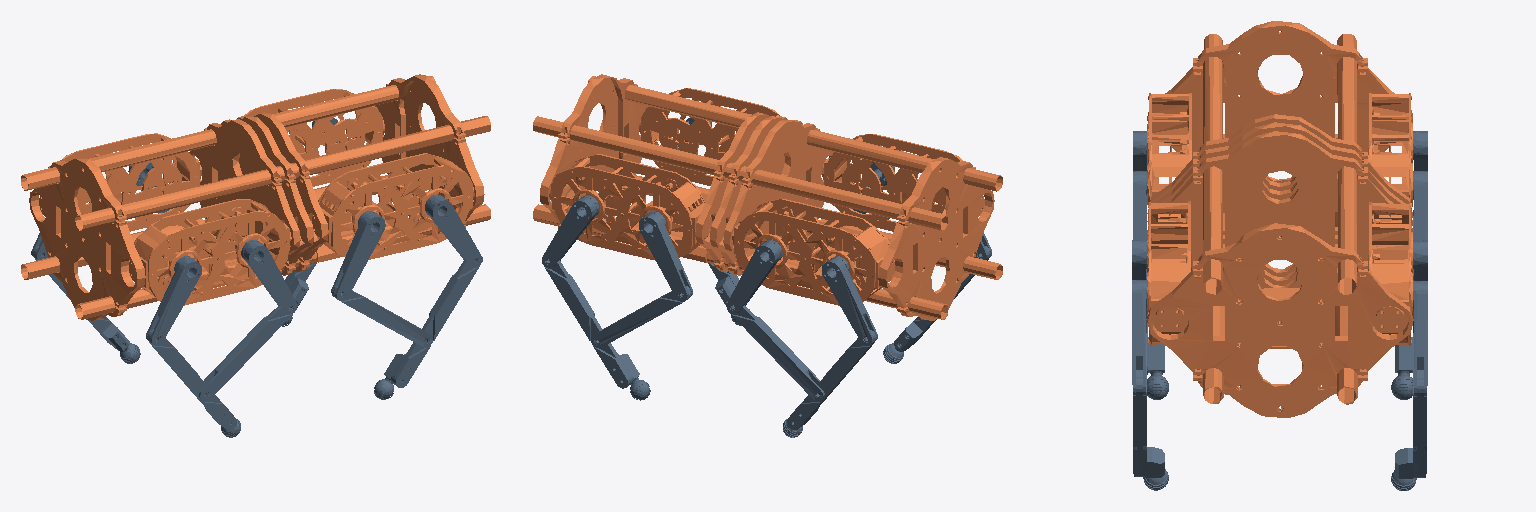
robot.urdf — quadson:
<robot name="quadson" version="1.0">

  <joint name="bl_joint0" type="revolute">
    <limit lower="-3.14000" upper="3.14000" effort="0.00000" velocity="0.00000"/>
    <origin rpy="-0.00000 1.57080 0.00000" xyz="-0.20768 0.09541 0.00215"/>
    <parent link="base_link_.002_link"/>
    <child link="link0.003"/>
    <axis xyz="0.00000 0.00000 1.00000"/>
  </joint>

  <joint name="bl_joint1" type="revolute">
    <limit lower="-3.14000" upper="3.14000" effort="0.00000" velocity="0.00000"/>
    <origin rpy="-1.57080 -1.57080 0.00000" xyz="0.00040 0.01862 0.05458"/>
    <parent link="link0.003"/>
    <child link="link1.003"/>
    <axis xyz="0.00000 0.00000 1.00000"/>
  </joint>

  <joint name="bl_joint2" type="revolute">
    <limit lower="-3.14000" upper="3.14000" effort="0.00000" velocity="0.00000"/>
    <origin rpy="-0.00000 -0.00000 -0.00000" xyz="-0.04179 0.06838 0.00778"/>
    <parent link="link1.003"/>
    <child link="link2.003"/>
    <axis xyz="0.00000 0.00000 1.00000"/>
  </joint>

  <joint name="bl_joint3" type="revolute">
    <limit lower="-3.14000" upper="3.14000" effort="0.00000" velocity="0.00000"/>
    <origin rpy="-0.00000 0.00000 -0.00000" xyz="0.05995 0.08004 -0.00055"/>
    <parent link="link2.003"/>
    <child link="link3.003"/>
    <axis xyz="0.00000 0.00000 1.00000"/>
  </joint>

  <joint name="bl_joint4" type="revolute">
    <limit lower="-3.14000" upper="3.14000" effort="0.00000" velocity="0.00000"/>
    <origin rpy="-0.00000 0.00000 0.00000" xyz="0.10334 -0.07887 0.00054"/>
    <parent link="link3.003"/>
    <child link="link4.004"/>
    <axis xyz="0.00000 0.00000 1.00000"/>
  </joint>

  <joint name="br_joint0" type="revolute">
    <limit lower="-3.14000" upper="3.14000" effort="0.00000" velocity="0.00000"/>
    <origin rpy="-0.00000 1.57080 0.00000" xyz="-0.20768 -0.09459 0.00215"/>
    <parent link="base_link_.002_link"/>
    <child link="link0.002"/>
    <axis xyz="0.00000 0.00000 1.00000"/>
  </joint>

  <joint name="br_joint1" type="revolute">
    <limit lower="-3.14000" upper="3.14000" effort="0.00000" velocity="0.00000"/>
    <origin rpy="1.57080 -1.57080 0.00000" xyz="0.00040 -0.01862 0.05458"/>
    <parent link="link0.002"/>
    <child link="link1.002"/>
    <axis xyz="0.00000 0.00000 1.00000"/>
  </joint>

  <joint name="br_joint2" type="revolute">
    <limit lower="-3.14000" upper="3.14000" effort="0.00000" velocity="0.00000"/>
    <origin rpy="0.00000 0.00000 -0.00000" xyz="-0.04173 -0.06842 0.00768"/>
    <parent link="link1.002"/>
    <child link="link2.002"/>
    <axis xyz="0.00000 0.00000 1.00000"/>
  </joint>

  <joint name="br_joint3" type="revolute">
    <limit lower="-3.14000" upper="3.14000" effort="0.00000" velocity="0.00000"/>
    <origin rpy="0.00000 0.00000 -0.00000" xyz="0.05988 -0.08000 -0.00045"/>
    <parent link="link2.002"/>
    <child link="link3.002"/>
    <axis xyz="0.00000 0.00000 1.00000"/>
  </joint>

  <joint name="br_joint4" type="revolute">
    <limit lower="-3.14000" upper="3.14000" effort="0.00000" velocity="0.00000"/>
    <origin rpy="0.00000 0.00000 -0.00000" xyz="0.10341 0.07891 0.00044"/>
    <parent link="link3.002"/>
    <child link="link4.001"/>
    <axis xyz="0.00000 0.00000 1.00000"/>
  </joint>

  <joint name="fl_jjoint1" type="revolute">
    <limit lower="-3.14000" upper="3.14000" effort="0.00000" velocity="0.00000"/>
    <origin rpy="-1.57080 1.57080 0.00000" xyz="-0.00040 0.01862 0.05430"/>
    <parent link="link0.004"/>
    <child link="link1.004"/>
    <axis xyz="0.00000 0.00000 1.00000"/>
  </joint>

  <joint name="fl_jjoint2" type="revolute">
    <limit lower="-3.14000" upper="3.14000" effort="0.00000" velocity="0.00000"/>
    <origin rpy="-0.00000 -0.00000 -0.00000" xyz="0.04173 0.06842 0.00768"/>
    <parent link="link1.004"/>
    <child link="link2.004"/>
    <axis xyz="0.00000 0.00000 1.00000"/>
  </joint>
  
  <joint name="fl_jjoint3" type="revolute">
    <limit lower="-3.14000" upper="3.14000" effort="0.00000" velocity="0.00000"/>
    <origin rpy="-0.00000 0.00000 -0.00000" xyz="-0.05988 0.08000 -0.00045"/>
    <parent link="link2.004"/>
    <child link="link3.004"/>
    <axis xyz="0.00000 0.00000 1.00000"/>
  </joint>
  
  <joint name="fl_jjoint4" type="revolute">
    <limit lower="-3.14000" upper="3.14000" effort="0.00000" velocity="0.00000"/>
    <origin rpy="-0.00000 -0.00000 0.00000" xyz="-0.10334 -0.07887 0.00054"/>
    <parent link="link3.004"/>
    <child link="link4.005"/>
    <axis xyz="0.00000 0.00000 1.00000"/>
  </joint>
  <joint name="fl_joint0" type="revolute">
    <limit lower="-3.14000" upper="3.14000" effort="0.00000" velocity="0.00000"/>
    <origin rpy="0.00000 -1.57080 0.00000" xyz="0.20740 0.09541 0.00215"/>
    <parent link="base_link_.002_link"/>
    <child link="link0.004"/>
    <axis xyz="0.00000 0.00000 1.00000"/>
  </joint>
  <joint name="fr_joint0" type="revolute">
    <limit lower="-3.14000" upper="3.14000" effort="0.00000" velocity="0.00000"/>
    <origin rpy="0.00000 -1.57080 0.00000" xyz="0.20740 -0.09459 0.00215"/>
    <parent link="base_link_.002_link"/>
    <child link="fr_link0.002"/>
    <axis xyz="0.00000 0.00000 1.00000"/>
  </joint>
  <joint name="fr_joint1" type="revolute">
    <limit lower="-3.14000" upper="3.14000" effort="0.00000" velocity="0.00000"/>
    <origin rpy="1.57080 1.57080 0.00000" xyz="0.00039 -0.01915 0.05430"/>
    <parent link="fr_link0.002"/>
    <child link="fr_llink1.002"/>
    <axis xyz="0.00000 0.00000 1.00000"/>
  </joint>
  <joint name="fr_joint2" type="revolute">
    <limit lower="-3.14000" upper="3.14000" effort="0.00000" velocity="0.00000"/>
    <origin rpy="0.00000 0.00000 0.00000" xyz="0.04179 -0.06838 0.00778"/>
    <parent link="fr_llink1.002"/>
    <child link="fr_llink2.002"/>
    <axis xyz="0.00000 0.00000 1.00000"/>
  </joint>
  <joint name="fr_joint3" type="revolute">
    <limit lower="-3.14000" upper="3.14000" effort="0.00000" velocity="0.00000"/>
    <origin rpy="0.00000 0.00000 0.00000" xyz="-0.05995 -0.08004 -0.00055"/>
    <parent link="fr_llink2.002"/>
    <child link="fr_llink3.002"/>
    <axis xyz="0.00000 0.00000 1.00000"/>
  </joint>
  <joint name="fr_joint4" type="revolute">
    <limit lower="-3.14000" upper="3.14000" effort="0.00000" velocity="0.00000"/>
    <origin rpy="0.00000 0.00000 0.00000" xyz="-0.10341 0.07891 0.00044"/>
    <parent link="fr_llink3.002"/>
    <child link="fr_llink4.002"/>
    <axis xyz="0.00000 0.00000 1.00000"/>
  </joint>
  <link name="base_link_.002_link">
    <inertial>
      <inertia ixx="0.00472" ixy="0.00000" ixz="0.00000" iyy="0.02855" iyz="-0.00000" izz="0.02916"/>
      <origin rpy="0.00000 0.00000 0.00000" xyz="-0.00001 0.00040 -0.00279"/>
      <mass value="1.50000"/>
    </inertial>
    <visual name="base_link_.002">
      <origin rpy="0.00000 0.00000 0.00000" xyz="0.00000 0.00000 0.00000"/>
      <material name="Primary"/>
      <geometry>
        <mesh filename="../meshes/dae/base_link.004.dae" scale="1.00000 1.00000 1.00000"/>
      </geometry>
    </visual>
  </link>
  <link name="fr_link0.002">
    <inertial>
      <inertia ixx="0.00020" ixy="-0.00000" ixz="-0.00001" iyy="0.00118" iyz="0.00000" izz="0.00107"/>
      <origin rpy="0.00000 0.00000 0.00000" xyz="0.00111 0.00069 0.09481"/>
      <mass value="0.40000"/>
    </inertial>
    <visual name="fr_llink0_.002">
      <origin rpy="-0.00000 1.57080 0.00000" xyz="0.00000 0.00000 -0.00000"/>
      <material name="Primary"/>
      <geometry>
        <mesh filename="../meshes/dae/fr_link_0.009.dae" scale="1.00000 1.00000 1.00000"/>
      </geometry>
    </visual>
  </link>
  <link name="fr_llink1.002">
    <inertial>
      <inertia ixx="0.00012" ixy="0.00000" ixz="0.00007" iyy="0.00016" iyz="-0.00001" izz="0.00005"/>
      <origin rpy="0.00000 0.00000 0.00000" xyz="0.01519 -0.02472 0.00644"/>
      <mass value="0.20000"/>
    </inertial>
    <visual name="fr_llink1_.002">
      <origin rpy="-1.57080 -0.00000 -0.00000" xyz="0.00000 0.00000 -0.00000"/>
      <material name="Grey"/>
      <geometry>
        <mesh filename="../meshes/dae/fr_link1.002.dae" scale="1.00000 1.00000 1.00000"/>
      </geometry>
    </visual>
  </link>
  <link name="fr_llink2.002">
    <inertial>
      <inertia ixx="0.00062" ixy="0.00006" ixz="-0.00045" iyy="0.00095" iyz="0.00008" izz="0.00036"/>
      <origin rpy="0.00000 0.00000 0.00000" xyz="-0.05980 -0.08004 -0.00440"/>
      <mass value="0.20000"/>
    </inertial>
    <visual name="fr_llink2_.002">
      <origin rpy="-1.57080 -0.00000 -0.00000" xyz="-0.00000 0.00000 -0.00000"/>
      <material name="Grey"/>
      <geometry>
        <mesh filename="../meshes/dae/fr_link2.002.dae" scale="1.00000 1.00000 1.00000"/>
      </geometry>
    </visual>
  </link>
  <link name="fr_llink3.002">
    <inertial>
      <inertia ixx="0.00012" ixy="-0.00000" ixz="0.00015" iyy="0.00031" iyz="0.00000" izz="0.00020"/>
      <origin rpy="0.00000 0.00000 0.00000" xyz="-0.05213 0.03967 0.00027"/>
      <mass value="0.20000"/>
    </inertial>
    <visual name="fr_llink3_.002">
      <origin rpy="-1.57080 -0.00000 -0.00000" xyz="0.00000 -0.00000 0.00000"/>
      <material name="Grey"/>
      <geometry>
        <mesh filename="../meshes/dae/fr_link3.002.dae" scale="1.00000 1.00000 1.00000"/>
      </geometry>
    </visual>
  </link>
  <link name="fr_llink4.002">
    <inertial>
      <inertia ixx="0.00012" ixy="-0.00000" ixz="-0.00006" iyy="0.00016" iyz="-0.00001" izz="0.00005"/>
      <origin rpy="0.00000 0.00000 0.00000" xyz="0.02541 0.04436 -0.00125"/>
      <mass value="0.20000"/>
    </inertial>
    <visual name="fr_llink4_.002">
      <origin rpy="-1.57080 -0.00000 -0.00000" xyz="0.03966 0.06964 -0.00768"/>
      <material name="Grey"/>
      <geometry>
        <mesh filename="../meshes/dae/fr_llink4.002.dae" scale="1.00000 1.00000 1.00000"/>
      </geometry>
    </visual>
  </link>
  <link name="link0.002">
    <inertial>
      <inertia ixx="0.00020" ixy="0.00000" ixz="0.00001" iyy="0.00118" iyz="0.00000" izz="0.00107"/>
      <origin rpy="0.00000 0.00000 0.00000" xyz="-0.00032 0.00122 0.09509"/>
      <mass value="0.40000"/>
    </inertial>
    <visual name="link0_.001">
      <origin rpy="-0.00000 -1.57080 0.00000" xyz="-0.00000 0.00000 -0.00000"/>
      <material name="Primary"/>
      <geometry>
        <mesh filename="../meshes/dae/fr_link_0.010.dae" scale="1.00000 1.00000 1.00000"/>
      </geometry>
    </visual>
  </link>
  <link name="link0.003">
    <inertial>
      <inertia ixx="0.00020" ixy="-0.00000" ixz="0.00001" iyy="0.00118" iyz="-0.00000" izz="0.00107"/>
      <origin rpy="0.00000 0.00000 0.00000" xyz="-0.00032 -0.00122 0.09509"/>
      <mass value="0.40000"/>
    </inertial>
    <visual name="link0_.002">
      <origin rpy="-0.00000 -1.57080 0.00000" xyz="-0.00000 -0.00000 -0.00000"/>
      <material name="Primary"/>
      <geometry>
        <mesh filename="../meshes/dae/fr_link_0.011.dae" scale="1.00000 1.00000 1.00000"/>
      </geometry>
    </visual>
  </link>
  <link name="link0.004">
    <inertial>
      <inertia ixx="0.00020" ixy="0.00000" ixz="-0.00001" iyy="0.00118" iyz="-0.00000" izz="0.00107"/>
      <origin rpy="0.00000 0.00000 0.00000" xyz="0.00032 -0.00122 0.09481"/>
      <mass value="0.40000"/>
    </inertial>
    <visual name="link0_.003">
      <origin rpy="-0.00000 1.57080 0.00000" xyz="-0.00000 -0.00000 0.00000"/>
      <material name="Primary"/>
      <geometry>
        <mesh filename="../meshes/dae/fr_link_0.012.dae" scale="1.00000 1.00000 1.00000"/>
      </geometry>
    </visual>
  </link>
  <link name="link1.002">
    <inertial>
      <inertia ixx="0.00012" ixy="-0.00000" ixz="-0.00007" iyy="0.00016" iyz="-0.00001" izz="0.00005"/>
      <origin rpy="0.00000 0.00000 0.00000" xyz="-0.01519 -0.02472 0.00644"/>
      <mass value="0.20000"/>
    </inertial>
    <visual name="link1_.001">
      <origin rpy="-1.57080 0.00000 -0.00000" xyz="0.00000 -0.00000 -0.00000"/>
      <material name="Grey"/>
      <geometry>
        <mesh filename="../meshes/dae/fr_link_1.008.dae" scale="1.00000 1.00000 1.00000"/>
      </geometry>
    </visual>
  </link>
  <link name="link1.003">
    <inertial>
      <inertia ixx="0.00012" ixy="0.00000" ixz="-0.00007" iyy="0.00016" iyz="0.00001" izz="0.00005"/>
      <origin rpy="0.00000 0.00000 0.00000" xyz="-0.01519 0.02472 0.00644"/>
      <mass value="0.20000"/>
    </inertial>
    <visual name="link1_.002">
      <origin rpy="1.57080 0.00000 -0.00000" xyz="0.00000 0.00000 -0.00000"/>
      <material name="Grey"/>
      <geometry>
        <mesh filename="../meshes/dae/fr_link_1.009.dae" scale="1.00000 1.00000 1.00000"/>
      </geometry>
    </visual>
  </link>
  <link name="link1.004">
    <inertial>
      <inertia ixx="0.00012" ixy="-0.00000" ixz="0.00007" iyy="0.00016" iyz="0.00001" izz="0.00005"/>
      <origin rpy="0.00000 0.00000 0.00000" xyz="0.01519 0.02472 0.00644"/>
      <mass value="0.20000"/>
    </inertial>
    <visual name="link1_.003">
      <origin rpy="1.57080 -0.00000 -0.00000" xyz="0.00000 0.00000 -0.00000"/>
      <material name="Grey"/>
      <geometry>
        <mesh filename="../meshes/dae/fr_link_1.010.dae" scale="1.00000 1.00000 1.00000"/>
      </geometry>
    </visual>
  </link>
  <link name="link2.002">
    <inertial>
      <inertia ixx="0.00062" ixy="-0.00006" ixz="0.00045" iyy="0.00095" iyz="0.00008" izz="0.00036"/>
      <origin rpy="0.00000 0.00000 0.00000" xyz="0.05973 -0.08000 -0.00430"/>
      <mass value="0.20000"/>
    </inertial>
    <visual name="link2_.001">
      <origin rpy="-1.57080 -0.00000 0.00000" xyz="0.00000 -0.00000 -0.00000"/>
      <material name="Grey"/>
      <geometry>
        <mesh filename="../meshes/dae/fr_link_2.008.dae" scale="1.00000 1.00000 1.00000"/>
      </geometry>
    </visual>
  </link>
  <link name="link2.003">
    <inertial>
      <inertia ixx="0.00062" ixy="0.00006" ixz="0.00045" iyy="0.00095" iyz="-0.00008" izz="0.00036"/>
      <origin rpy="0.00000 0.00000 0.00000" xyz="0.05980 0.08004 -0.00440"/>
      <mass value="0.20000"/>
    </inertial>
    <visual name="link2_.002">
      <origin rpy="1.57080 0.00000 -0.00000" xyz="-0.00000 0.00000 0.00000"/>
      <material name="Grey"/>
      <geometry>
        <mesh filename="../meshes/dae/fr_link_2.009.dae" scale="1.00000 1.00000 1.00000"/>
      </geometry>
    </visual>
  </link>
  <link name="link2.004">
    <inertial>
      <inertia ixx="0.00062" ixy="-0.00006" ixz="-0.00045" iyy="0.00095" iyz="-0.00008" izz="0.00036"/>
      <origin rpy="0.00000 0.00000 0.00000" xyz="-0.05973 0.08000 -0.00430"/>
      <mass value="0.20000"/>
    </inertial>
    <visual name="link2_.003">
      <origin rpy="1.57080 0.00000 0.00000" xyz="-0.00000 0.00000 0.00000"/>
      <material name="Grey"/>
      <geometry>
        <mesh filename="../meshes/dae/fr_link_2.010.dae" scale="1.00000 1.00000 1.00000"/>
      </geometry>
    </visual>
  </link>
  <link name="link3.002">
    <inertial>
      <inertia ixx="0.00012" ixy="0.00000" ixz="-0.00015" iyy="0.00031" iyz="0.00000" izz="0.00020"/>
      <origin rpy="0.00000 0.00000 0.00000" xyz="0.05213 0.03967 0.00027"/>
      <mass value="0.20000"/>
    </inertial>
    <visual name="link3_.001">
      <origin rpy="-1.57080 -0.00000 0.00000" xyz="0.00000 0.00000 0.00000"/>
      <material name="Grey"/>
      <geometry>
        <mesh filename="../meshes/dae/fr_link_3.008.dae" scale="1.00000 1.00000 1.00000"/>
      </geometry>
    </visual>
  </link>
  <link name="link3.003">
    <inertial>
      <inertia ixx="0.00012" ixy="-0.00000" ixz="-0.00015" iyy="0.00031" iyz="-0.00000" izz="0.00020"/>
      <origin rpy="0.00000 0.00000 0.00000" xyz="0.05213 -0.03967 0.00027"/>
      <mass value="0.20000"/>
    </inertial>
    <visual name="link3_.002">
      <origin rpy="1.57080 -0.00000 0.00000" xyz="0.00000 -0.00000 -0.00000"/>
      <material name="Grey"/>
      <geometry>
        <mesh filename="../meshes/dae/fr_link_3.009.dae" scale="1.00000 1.00000 1.00000"/>
      </geometry>
    </visual>
  </link>
  <link name="link3.004">
    <inertial>
      <inertia ixx="0.00012" ixy="0.00000" ixz="0.00015" iyy="0.00031" iyz="-0.00000" izz="0.00020"/>
      <origin rpy="0.00000 0.00000 0.00000" xyz="-0.05213 -0.03967 0.00027"/>
      <mass value="0.20000"/>
    </inertial>
    <visual name="link3_.003">
      <origin rpy="1.57080 -0.00000 0.00000" xyz="-0.00000 -0.00000 -0.00000"/>
      <material name="Grey"/>
      <geometry>
        <mesh filename="../meshes/dae/fr_link_3.010.dae" scale="1.00000 1.00000 1.00000"/>
      </geometry>
    </visual>
  </link>
  <link name="link4.001">
    <inertial>
      <inertia ixx="0.00012" ixy="0.00000" ixz="0.00006" iyy="0.00016" iyz="-0.00001" izz="0.00005"/>
      <origin rpy="0.00000 0.00000 0.00000" xyz="-0.02541 0.04436 -0.00125"/>
      <mass value="0.20000"/>
    </inertial>
    <visual name="link4_.001">
      <origin rpy="-1.57080 -0.00000 0.00000" xyz="-0.03957 0.06951 -0.00768"/>
      <material name="Grey"/>
      <geometry>
        <mesh filename="../meshes/dae/link4.008.dae" scale="1.00000 1.00000 1.00000"/>
      </geometry>
    </visual>
  </link>
  <link name="link4.004">
    <inertial>
      <inertia ixx="0.00012" ixy="-0.00000" ixz="0.00006" iyy="0.00016" iyz="0.00001" izz="0.00005"/>
      <origin rpy="0.00000 0.00000 0.00000" xyz="-0.02534 -0.04440 -0.00134"/>
      <mass value="0.20000"/>
    </inertial>
    <visual name="link4_.002">
      <origin rpy="1.57080 -0.00000 0.00000" xyz="-0.03950 -0.06955 -0.00778"/>
      <material name="Grey"/>
      <geometry>
        <mesh filename="../meshes/dae/link4.009.dae" scale="1.00000 1.00000 1.00000"/>
      </geometry>
    </visual>
  </link>
  <link name="link4.005">
    <inertial>
      <inertia ixx="0.00012" ixy="0.00000" ixz="-0.00006" iyy="0.00016" iyz="0.00001" izz="0.00005"/>
      <origin rpy="0.00000 0.00000 0.00000" xyz="0.02534 -0.04440 -0.00134"/>
      <mass value="0.20000"/>
    </inertial>
    <visual name="link4_.003">
      <origin rpy="1.57080 -0.00000 -0.00000" xyz="0.03950 -0.06955 -0.00778"/>
      <material name="Grey"/>
      <geometry>
        <mesh filename="../meshes/dae/link4.010.dae" scale="1.00000 1.00000 1.00000"/>
      </geometry>
    </visual>
  </link>
  <material name="Grey">
    <color rgba="0.39608 0.47059 0.54510 1.00000"/>
  </material>
  <material name="Primary">
    <color rgba="0.92941 0.56471 0.36471 1.00000"/>
  </material>
</robot>

--- Render facts (derived) ---
3 views of the same robot in one strip: view 1: azimuth 30°, elevation 25°; view 2: azimuth 150°, elevation 25°; view 3: azimuth 270°, elevation 25° (orthographic).
Model quadson with 21 links and 20 joints (20 revolute), rooted at base_link_.002_link, posed every joint at zero.
Visible links, largest first — view 1: base_link_.002_link, fr_link0.002, link0.002, link0.003, link0.004, fr_llink2.002, link3.002, fr_llink4.002, link1.002, link2.002, link4.001, fr_llink1.002 (+3 smaller); view 2: base_link_.002_link, link0.004, link0.003, link0.002, fr_link0.002, link2.004, link3.003, link4.005, link1.003, link2.003, link1.004, link4.004 (+3 smaller); view 3: base_link_.002_link, fr_link0.002, link0.004, link0.002, link0.003, fr_llink2.002, link2.004, fr_llink1.002, link1.004, link2.003, link2.002, link4.004 (+5 smaller).
Boxes of the visible links, <box> form: base_link_.002_link: <box>21,74,490,320</box>; fr_link0.002: <box>312,153,474,259</box>; link0.002: <box>129,199,291,305</box>; link0.003: <box>39,133,201,231</box>; link0.004: <box>244,89,384,186</box>; fr_llink2.002: <box>374,259,479,399</box>; link3.002: <box>199,305,291,401</box>; fr_llink4.002: <box>331,211,385,300</box>; link1.002: <box>146,256,201,345</box>; link2.002: <box>147,329,240,437</box>; link4.001: <box>241,240,297,314</box>; fr_llink1.002: <box>425,195,482,267</box>; base_link_.002_link: <box>533,74,1002,320</box>; link0.004: <box>549,154,711,260</box>; link0.003: <box>732,199,894,305</box>; link0.002: <box>822,134,984,231</box>; fr_link0.002: <box>639,88,779,185</box>; link2.004: <box>545,259,650,400</box>; link3.003: <box>732,305,824,401</box>; link4.005: <box>639,212,692,301</box>; link1.003: <box>822,256,877,345</box>; link2.003: <box>783,330,876,437</box>; link1.004: <box>542,195,599,268</box>; link4.004: <box>726,240,782,314</box>; base_link_.002_link: <box>1147,21,1412,417</box>; fr_link0.002: <box>1147,201,1191,345</box>; link0.004: <box>1368,202,1412,345</box>; link0.002: <box>1147,93,1191,204</box>; link0.003: <box>1368,93,1412,206</box>; fr_llink2.002: <box>1133,377,1168,490</box>; link2.004: <box>1391,378,1426,490</box>; fr_llink1.002: <box>1132,280,1146,394</box>; link1.004: <box>1413,280,1427,395</box>; link2.003: <box>1391,210,1413,399</box>; link2.002: <box>1146,319,1168,399</box>; link4.004: <box>1413,171,1427,240</box>.
Bounding box of the posed robot: 0.5 × 0.2564 × 0.306 m (x, y, z).
Meshes: 21 distinct files referenced, 21 mesh visuals loaded (21 Collada DAE).